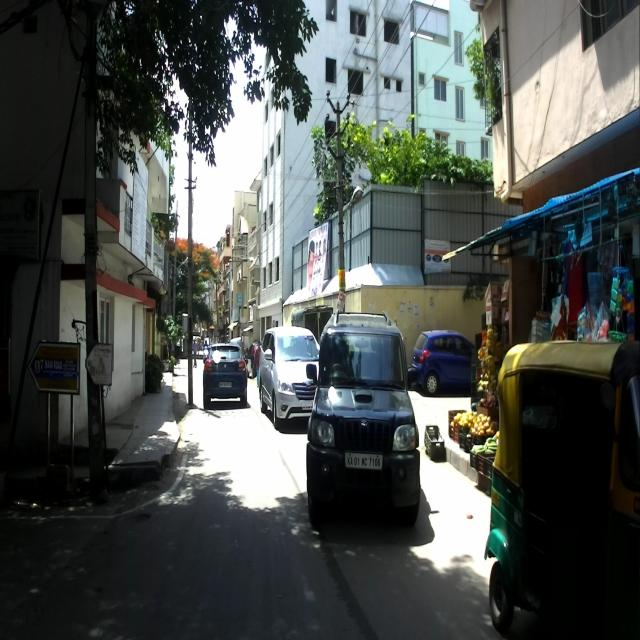Car_Hyundai: (412, 328, 475, 395)
Car_Mahindra: (304, 308, 422, 534)
Car_Maruti-Suzuki: (202, 342, 249, 409)
Car_Toyota: (257, 325, 320, 431)
autorickshaw: (483, 340, 640, 639)
